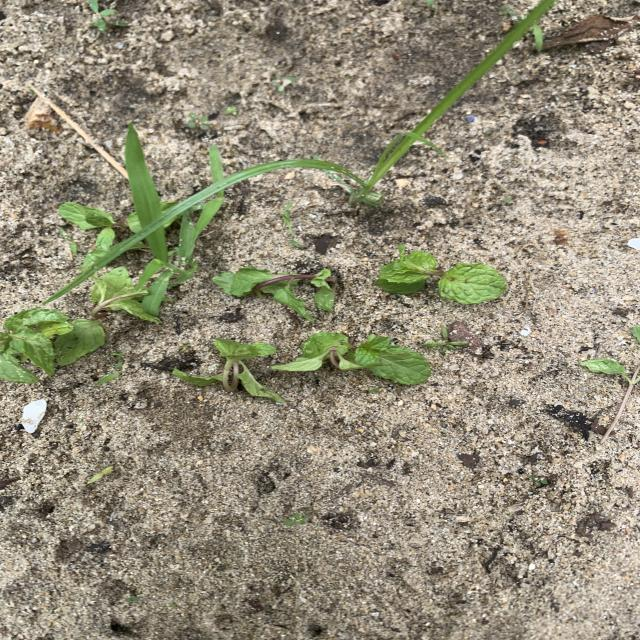crop: (0, 307, 105, 384), (283, 332, 431, 385), (375, 246, 506, 304), (172, 338, 285, 404), (213, 267, 336, 323), (90, 267, 159, 323), (59, 202, 115, 260), (424, 327, 469, 348), (120, 240, 146, 253)
weed: (250, 0, 556, 206), (177, 146, 252, 259), (125, 124, 181, 265), (136, 260, 197, 322)
